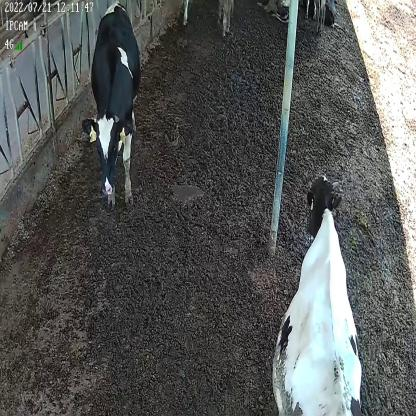cow: (273, 173, 364, 416), (82, 0, 141, 208)
